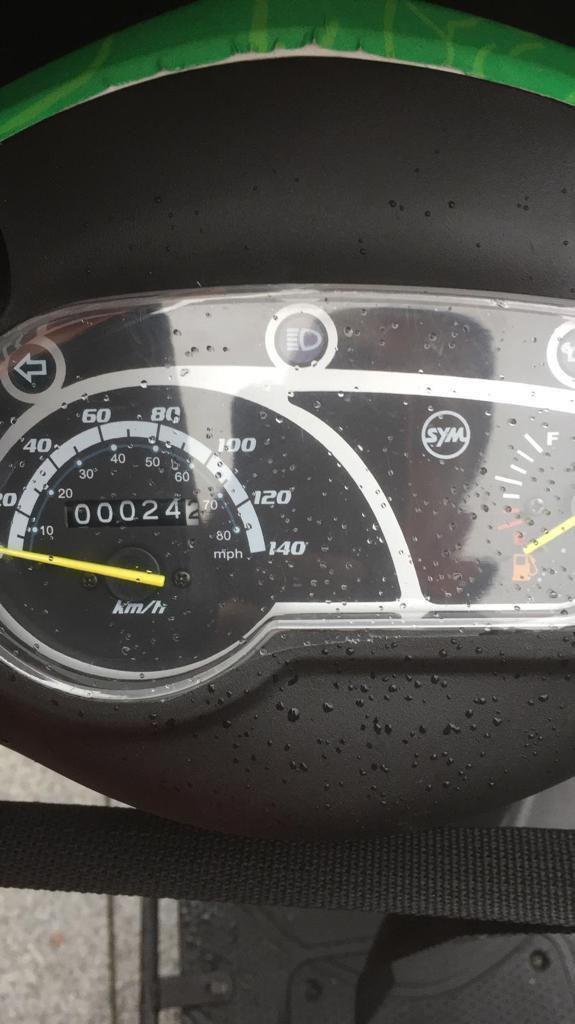0: (95, 501, 114, 525), (118, 498, 136, 523), (73, 502, 91, 526)
2: (141, 498, 159, 522), (187, 499, 202, 520)
4: (163, 499, 182, 520)
odometer: (63, 497, 204, 532)
